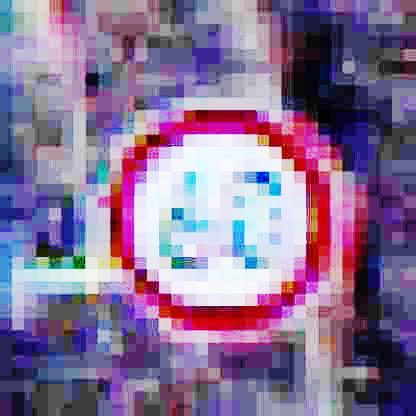Speed Limit -60-: (100, 103, 342, 337)
